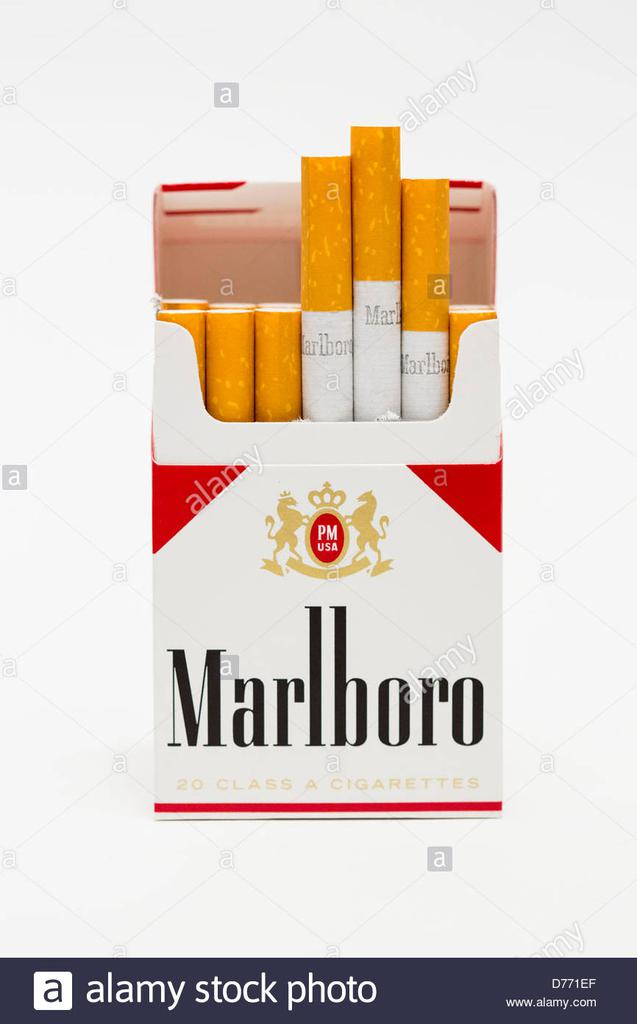marlboro_red: (153, 339, 505, 822)
